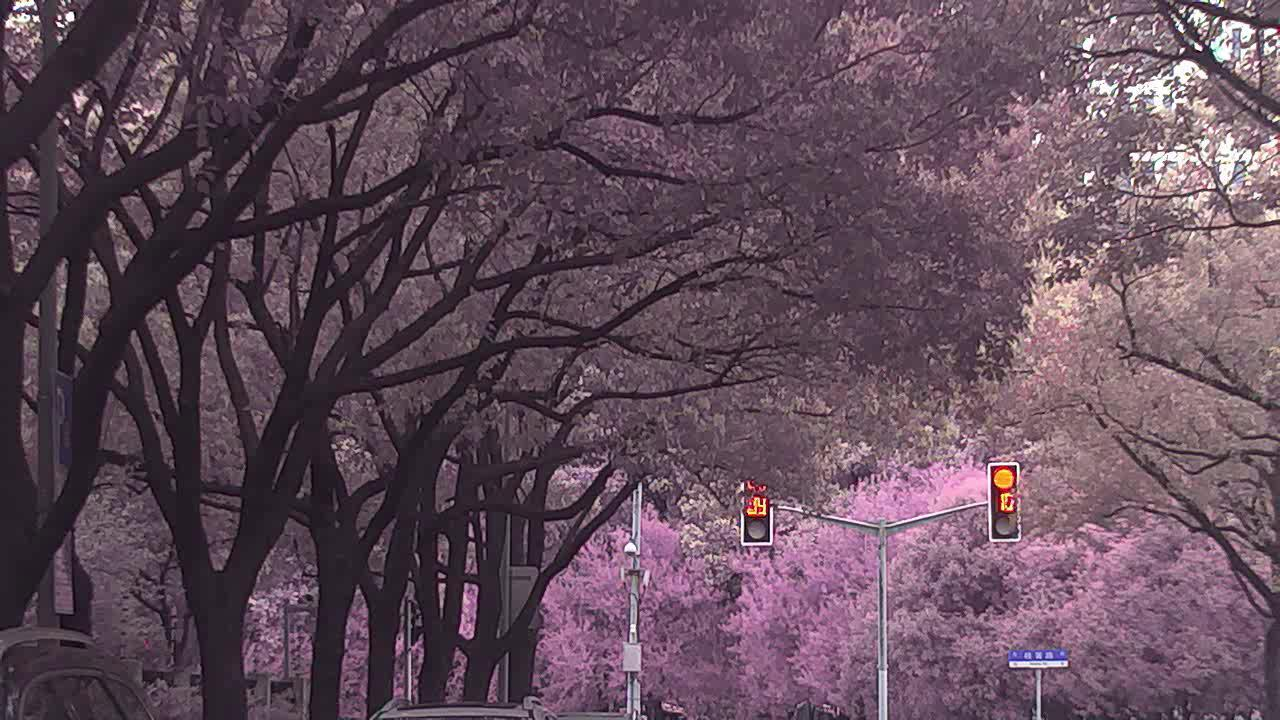traffic_light: (986, 461, 1021, 544), (743, 477, 775, 550)
